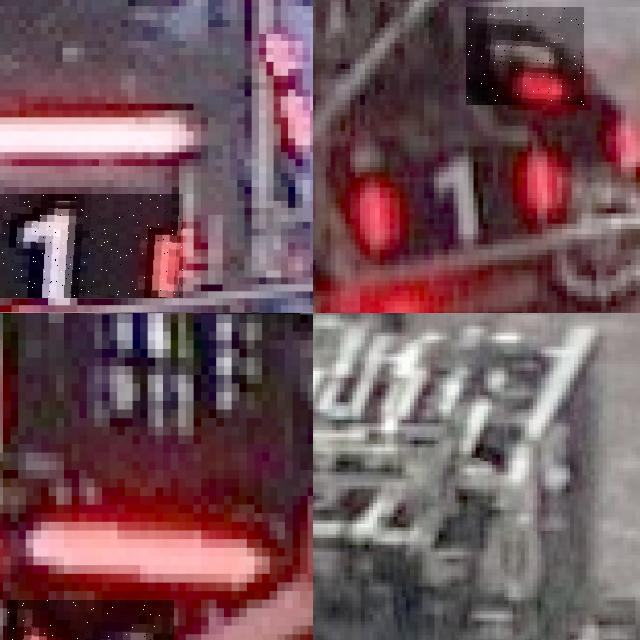R1: (340, 134, 557, 252), (0, 193, 182, 298), (466, 7, 584, 105), (6, 599, 174, 640)
